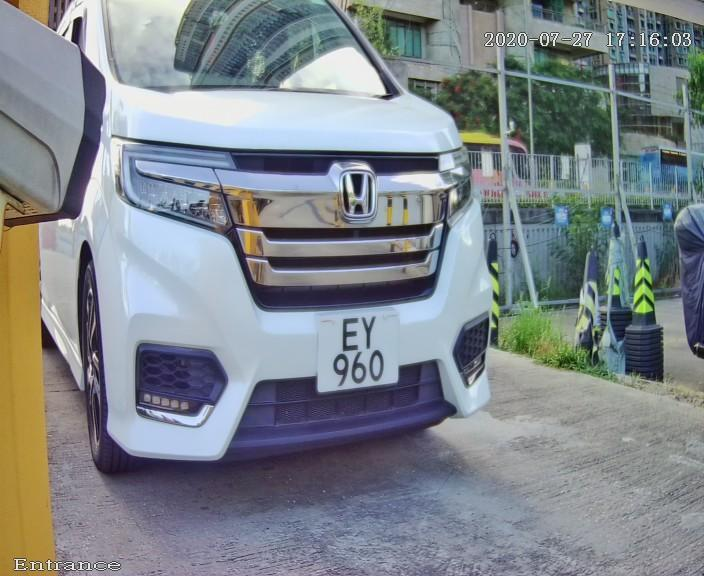privatecar: (29, 24, 541, 494)
